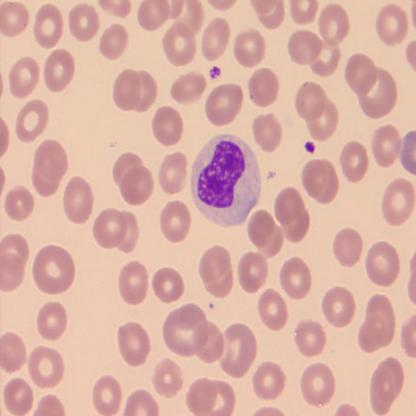Metamyelocyte: (187, 130, 263, 228)
